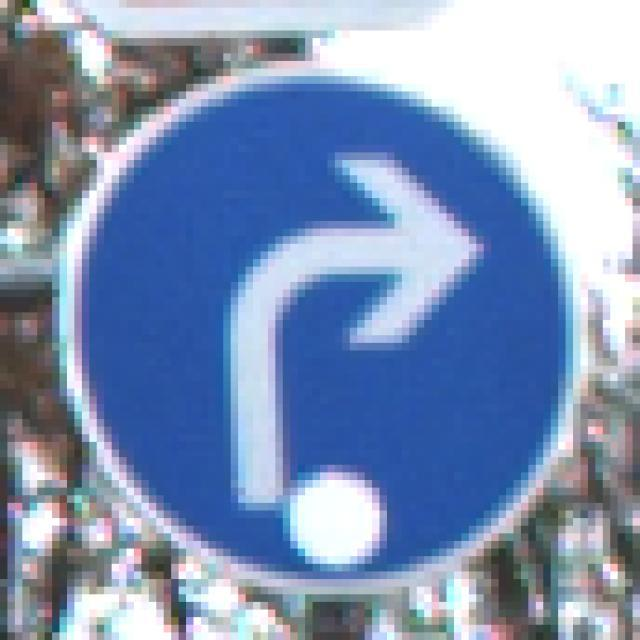compulsary turn right ahead: (61, 65, 584, 591)
